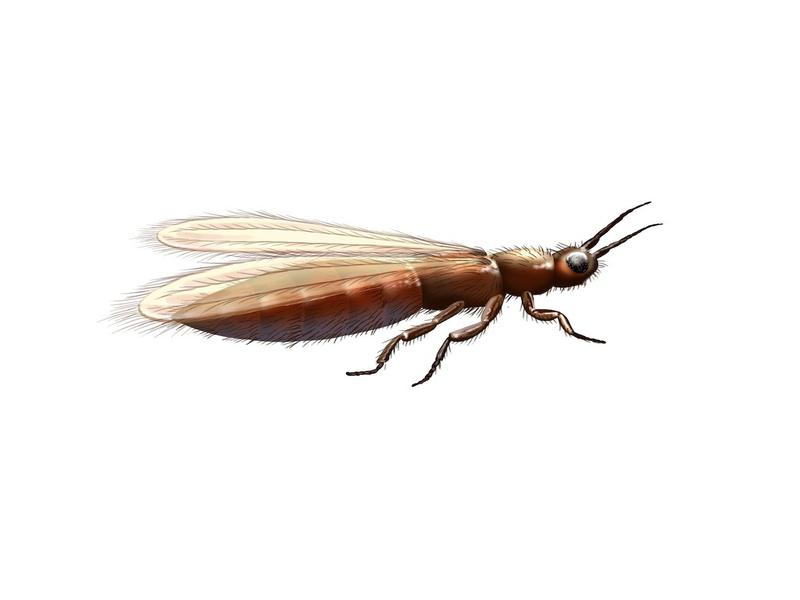Thrips: (100, 194, 677, 404)
